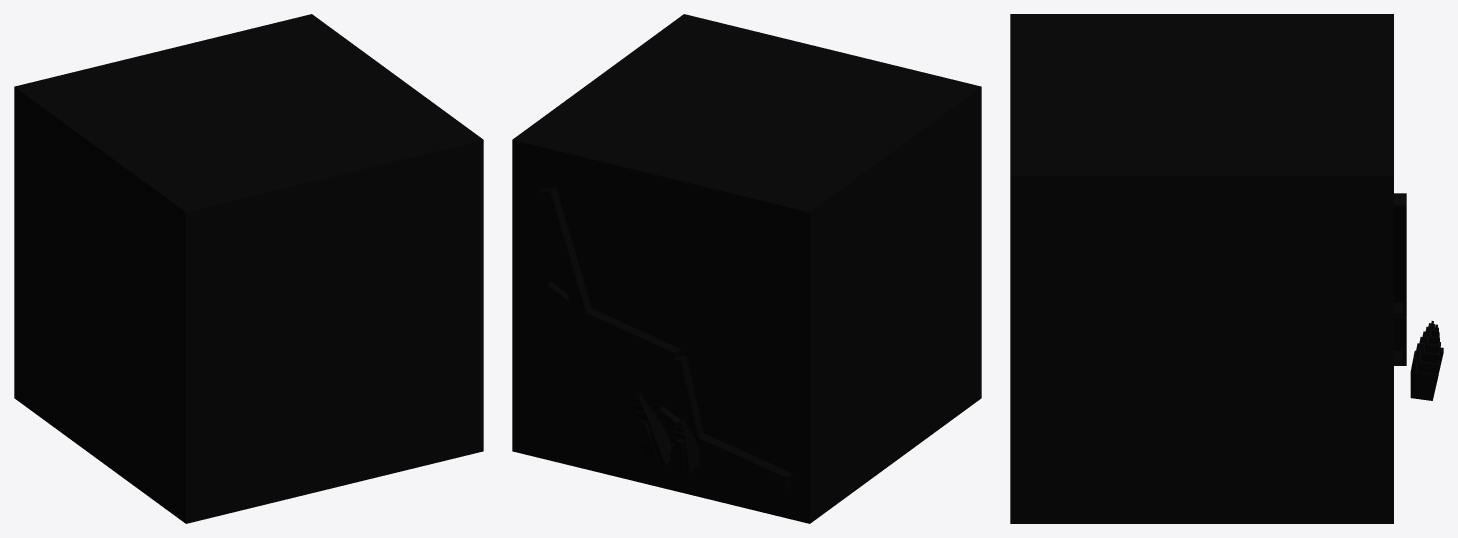
Rendered from lab_tile_eroded.obj.
The picture shows the model from 3 angles, left to right: view 1: azimuth 30°, elevation 25°; view 2: azimuth 150°, elevation 25°; view 3: azimuth 270°, elevation 25°; orthographic projection. The views are drawn at different scales.
Size of the model in its own units: 1 by 1 by 1.13.
